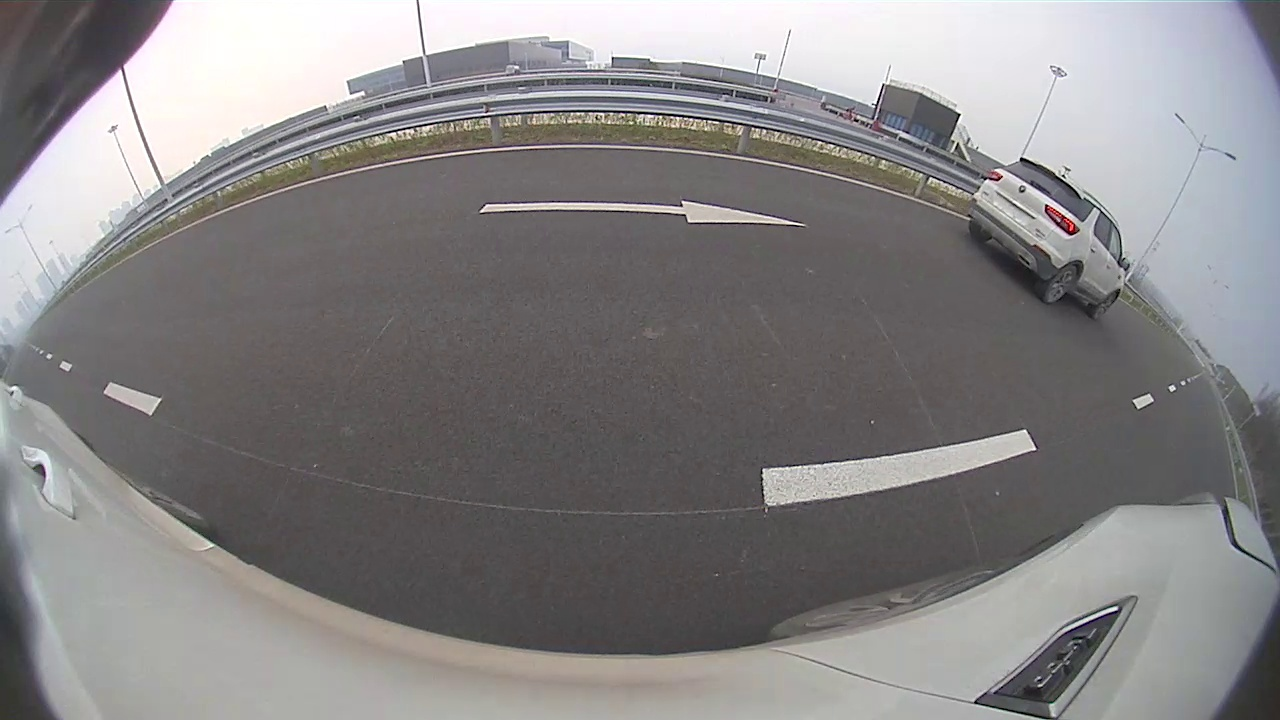car: (966, 157, 1130, 320)
rear: (1041, 262, 1082, 306)
